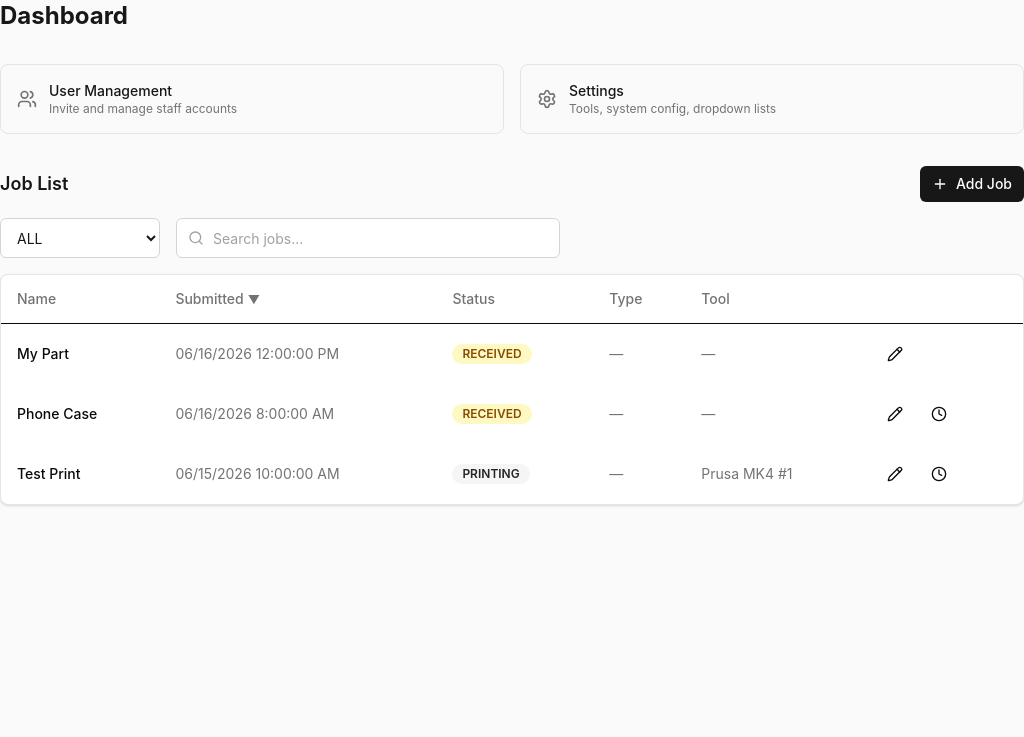
Test: Dashboard › opens the Add Job form when clicking the button
Click the button "Add Job" at (972, 184), box [920,166,1023,202]
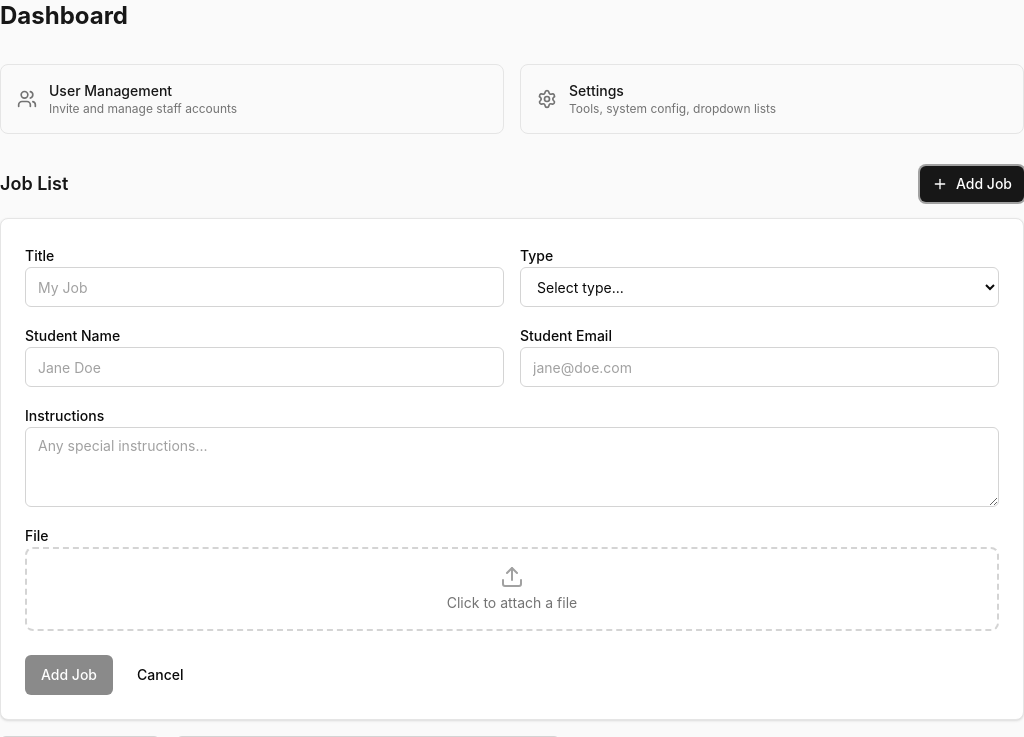
Result: the field with placeholder "My Job" is shown at [25,267,504,307]
Result: the field with placeholder "Jane Doe" is shown at [25,347,504,387]
Result: the field with placeholder "jane@doe.com" is shown at [520,347,999,387]
